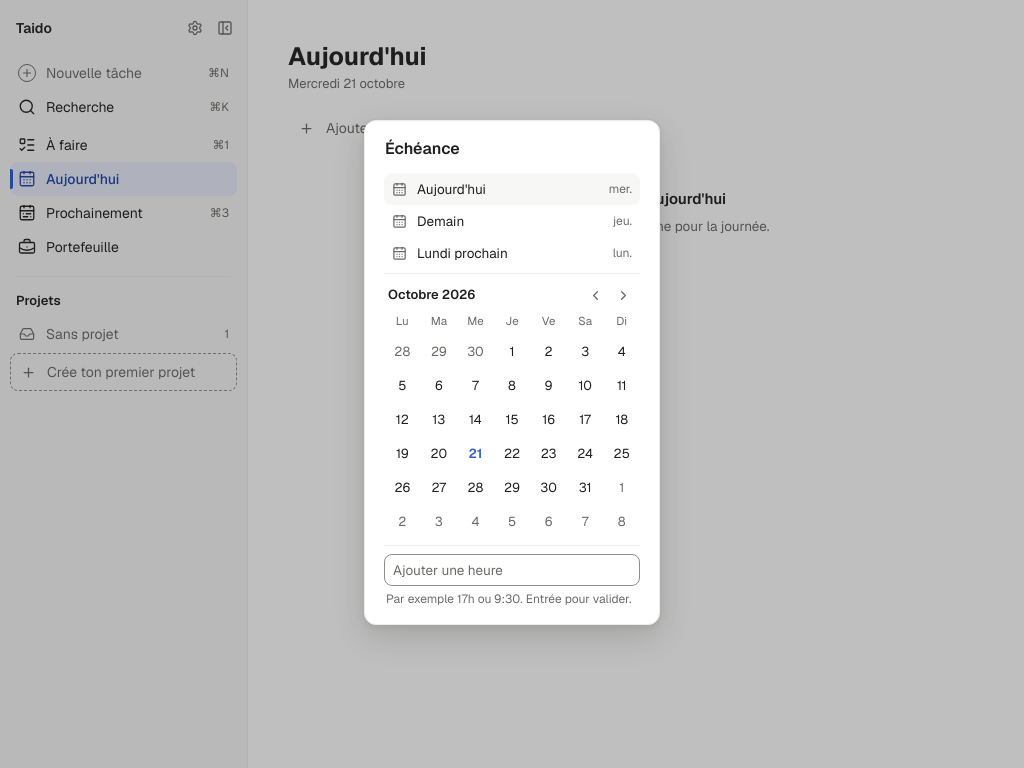
Scenario: Échéance… dialog › uses the French date picker instead of native inputs
The width and height of the screenshot is (1024, 768).
Click the button "Aujourd'hui mer." at (512, 189), box [384,173,640,205]
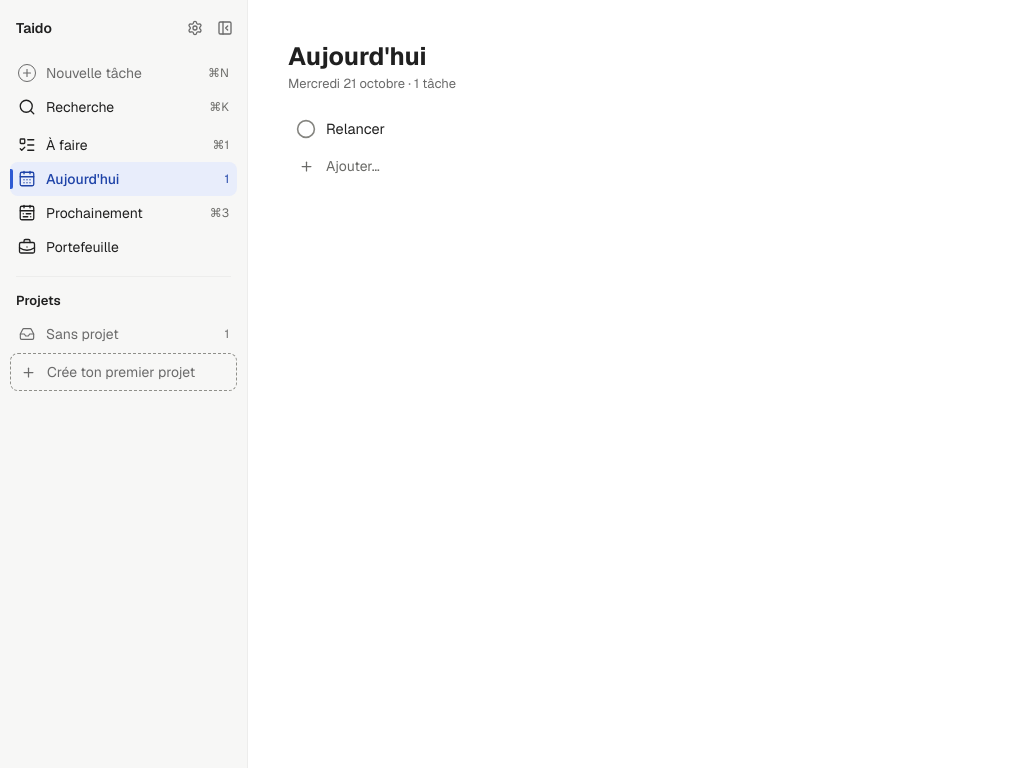
Now the heading "Échéance" is gone
